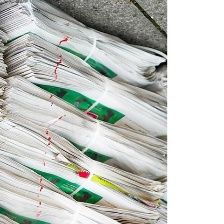news_paper: (0, 0, 169, 224)
